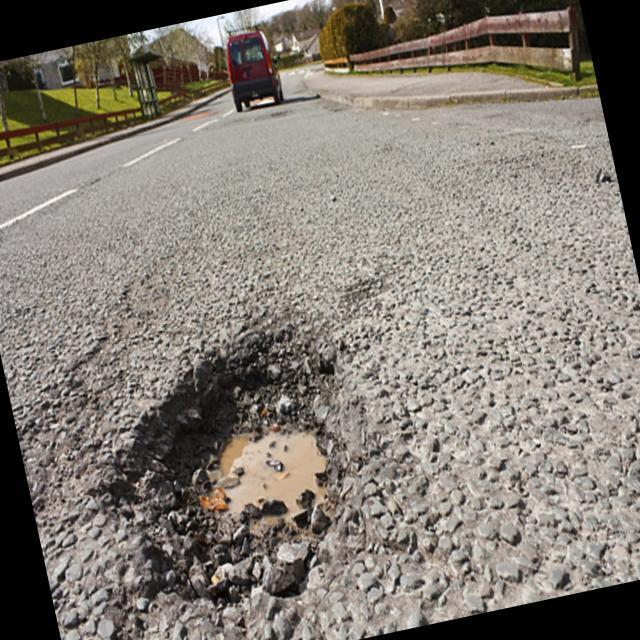Pothole: (50, 273, 404, 640)
